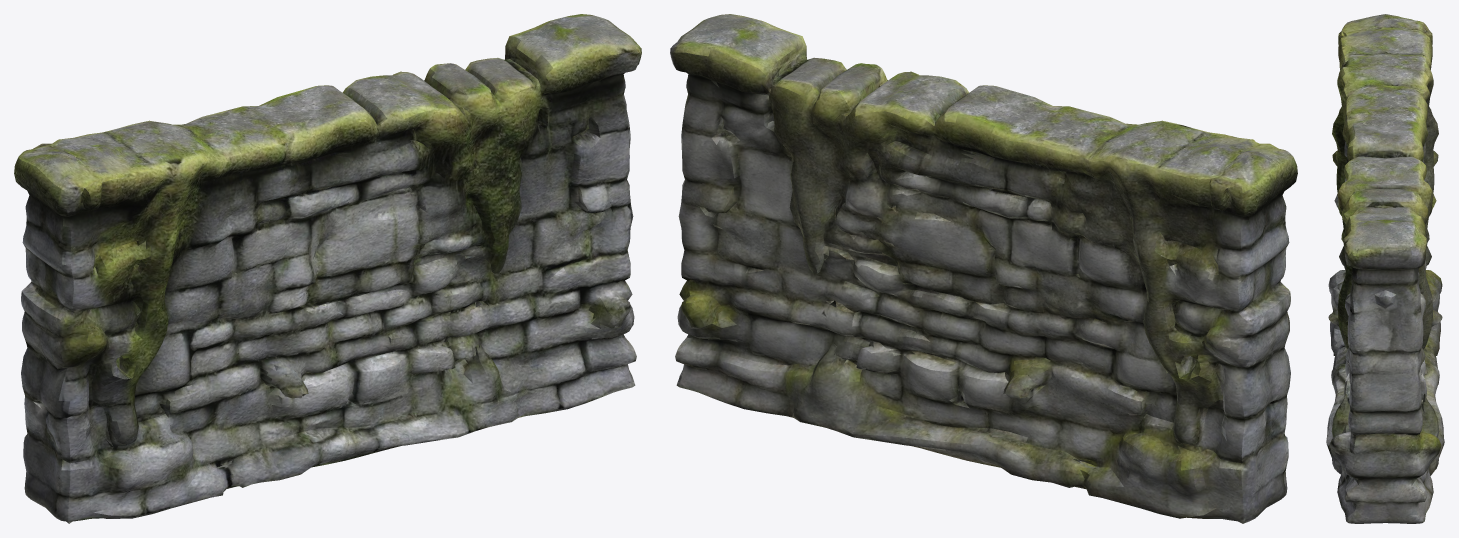
Rendered from wall__mossy-old-bricks.glb.
3 renders of one model, left to right at view 1: azimuth 30°, elevation 25°; view 2: azimuth 150°, elevation 25°; view 3: azimuth 270°, elevation 25°, orthographic. The views are drawn at different scales.
Bounding box in the file's own units: 1.99 × 1.13 × 0.4234.
1 material, 1 textured.
